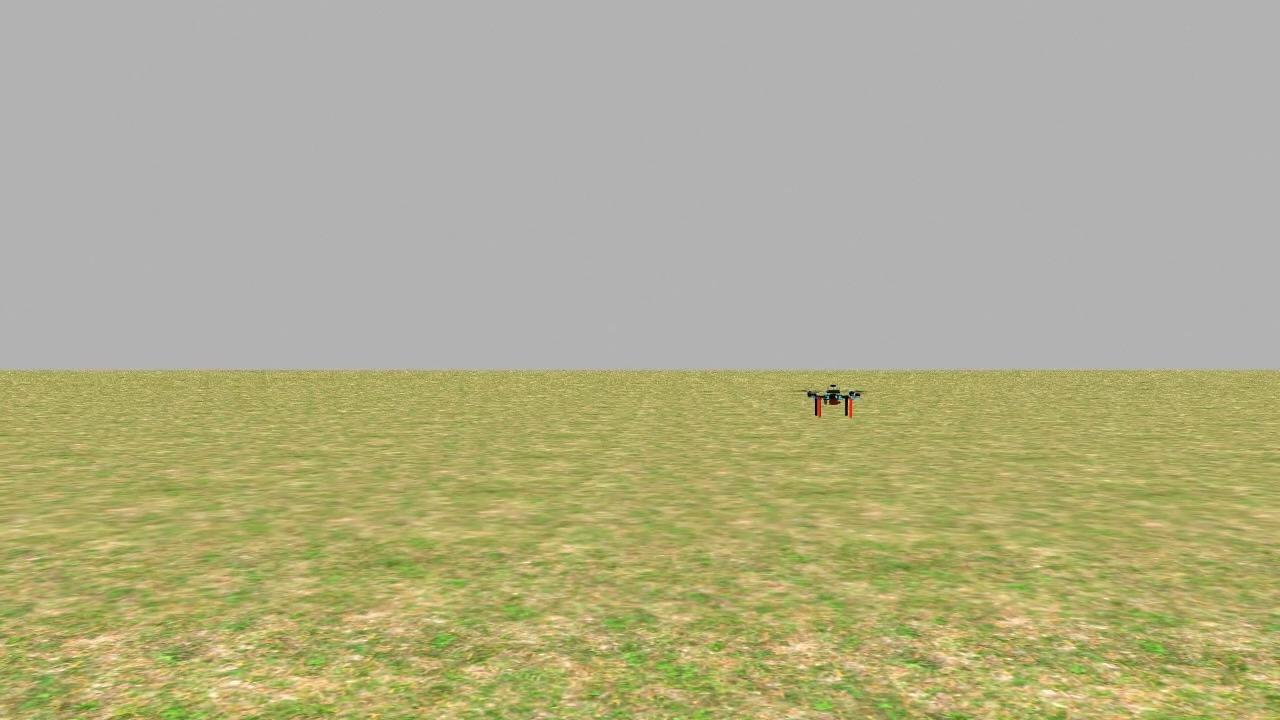UAV: (797, 359, 870, 433)
